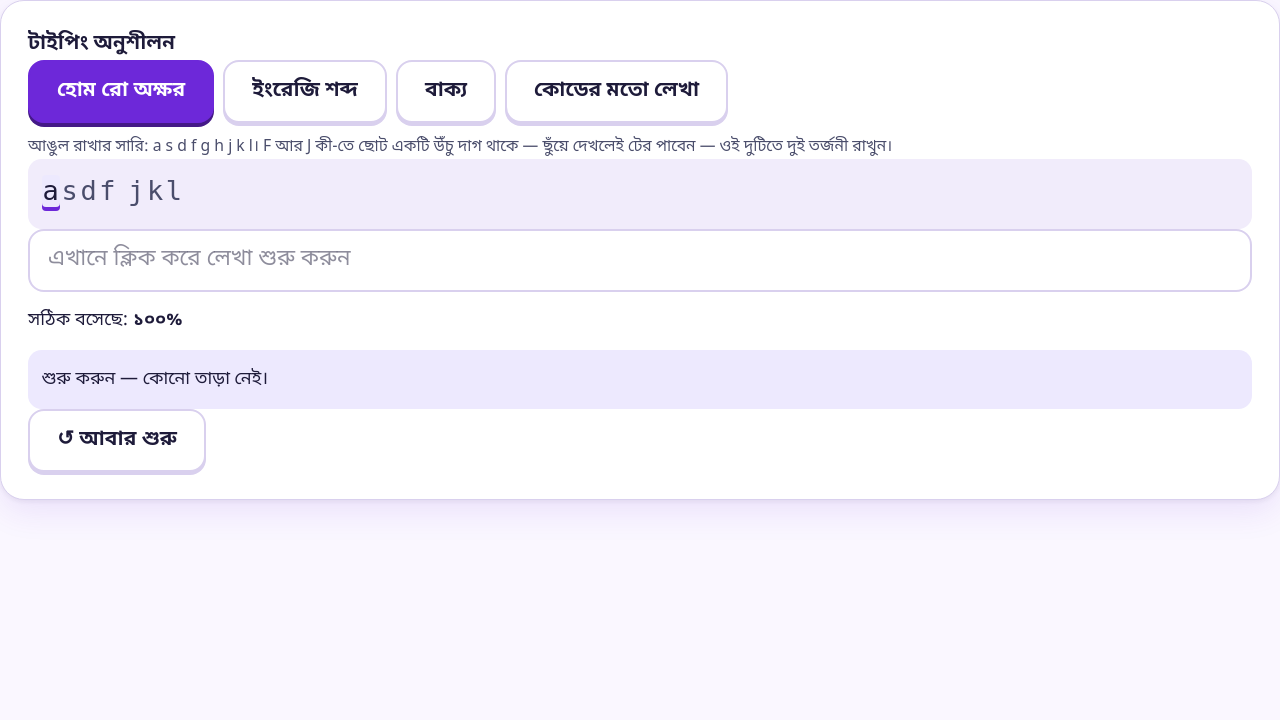
Test: typing-practice widget › marks a wrong character gently and finishes the exercise
The image size is (1280, 720).
In the field with test id "typing-input": (640, 260) [28,229,1252,292], type "ax"
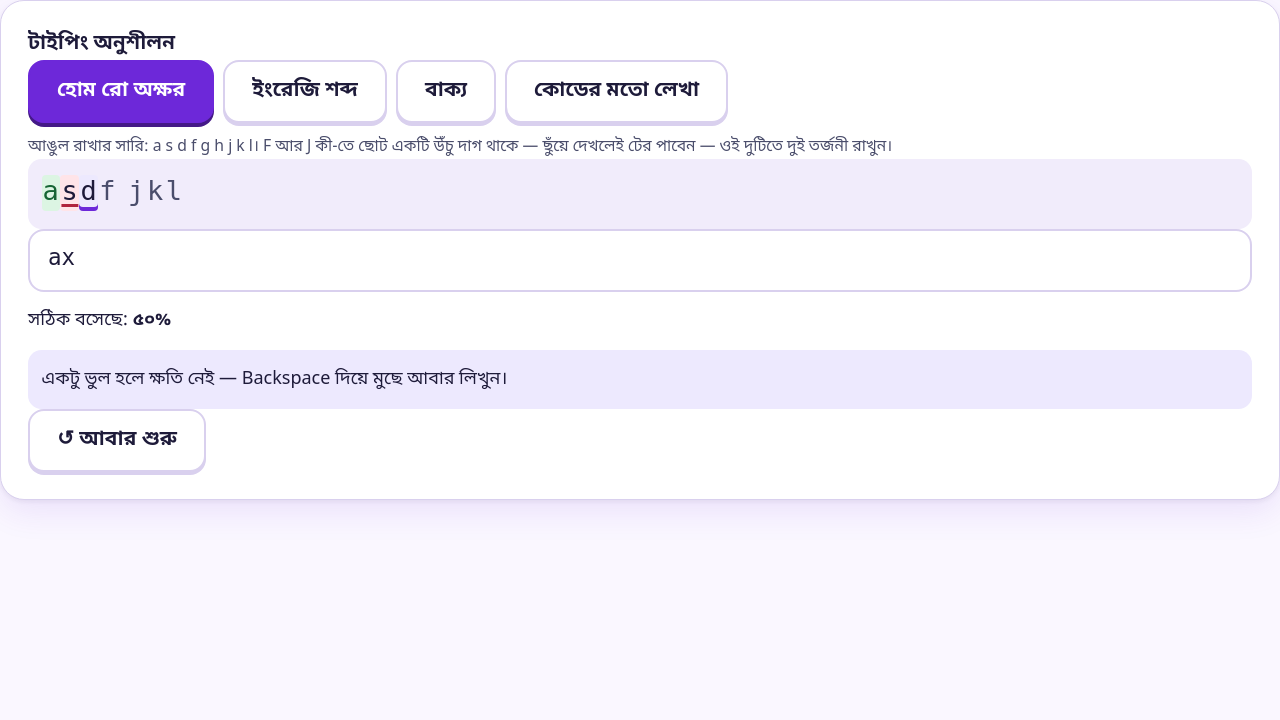
Result: the message with test id "typing-message" shows "Backspace" at [42,367,507,391]
Replace the text in the field with test id "typing-input" with "asdf jkl": (640, 260) [28,229,1252,292]
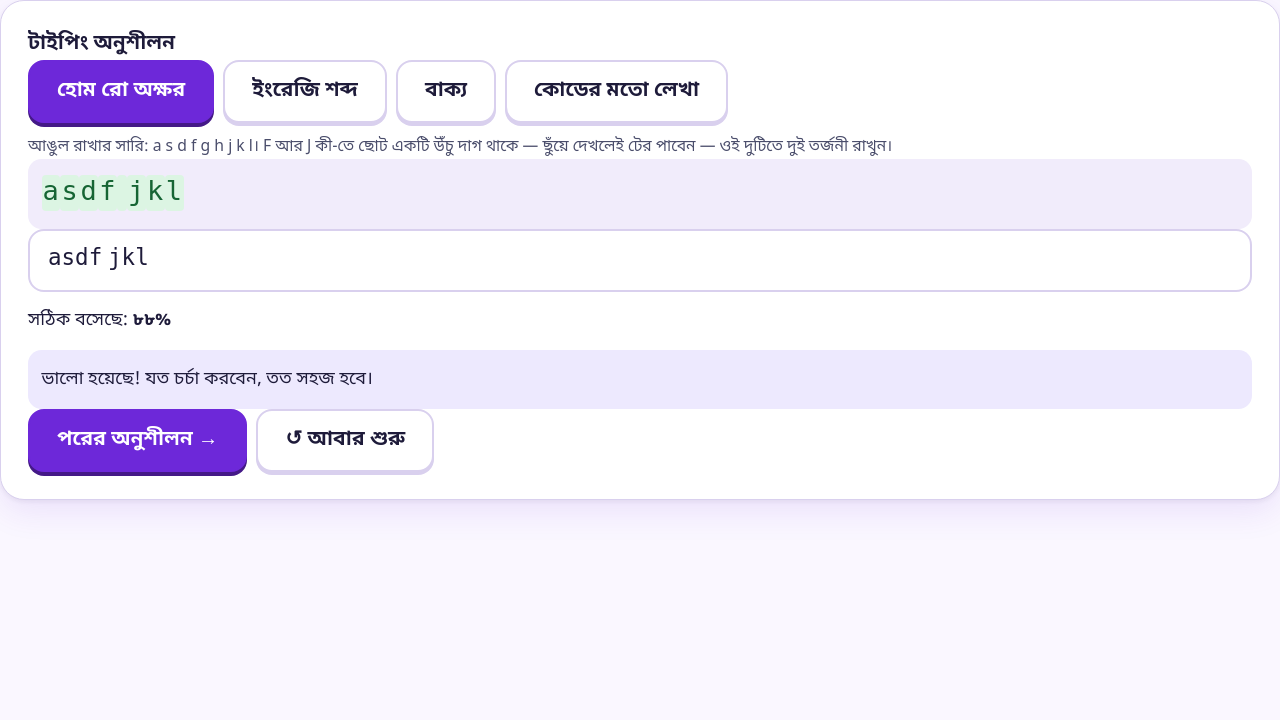
Expected: the element with test id "typing-accuracy" shows "%", [155,308,171,332]
Result: the button "পরের অনুশীলন →" is shown at [28,409,247,472]
